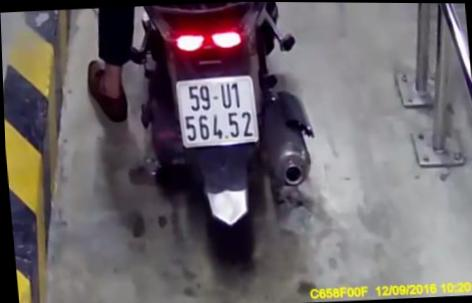LP: (171, 73, 261, 147)
